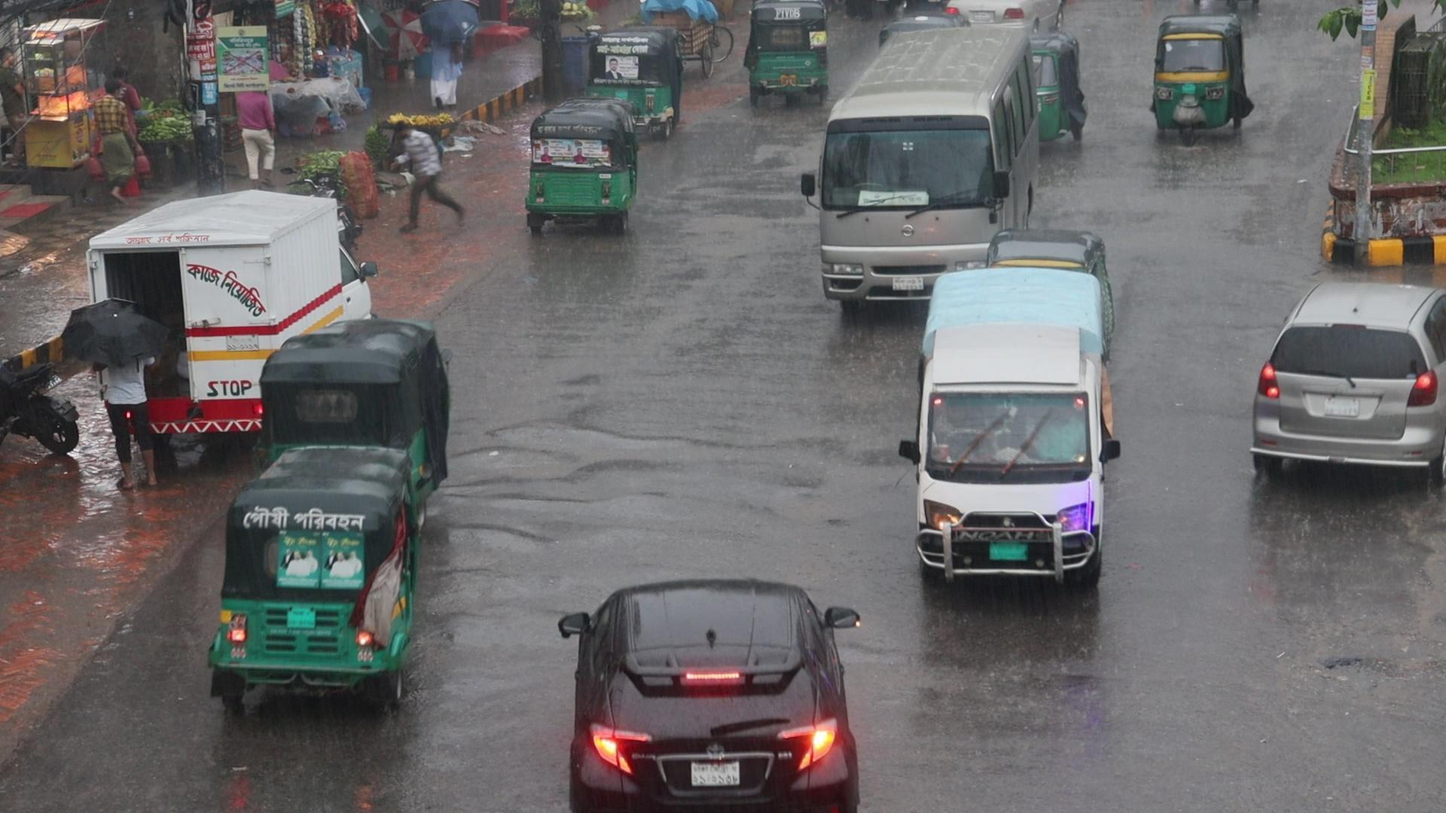Bus: (816, 16, 1040, 282)
Car: (558, 574, 863, 813), (1249, 275, 1446, 492)
Truck: (907, 265, 1115, 595)
